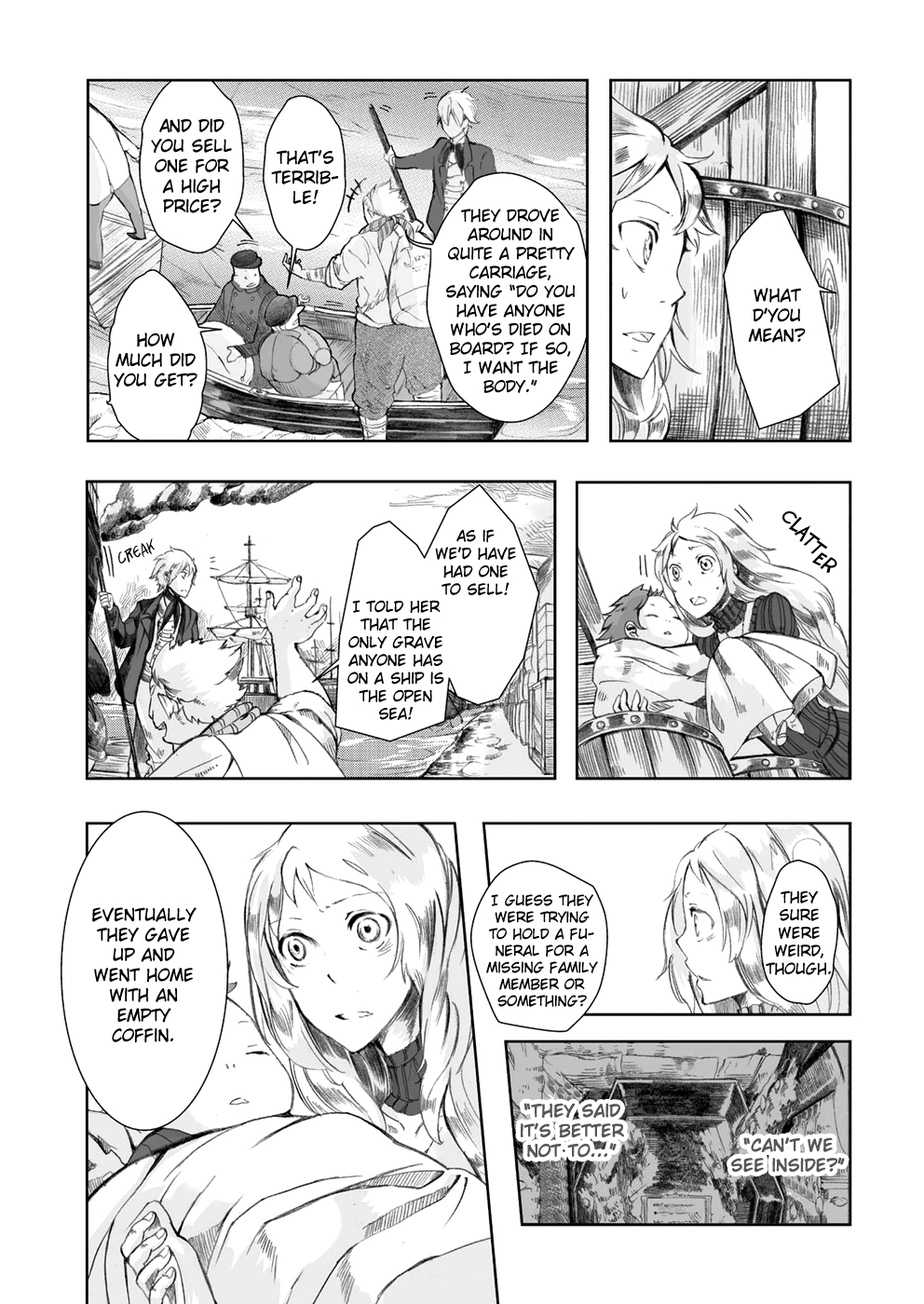bubble: (61, 810, 228, 1132), (406, 172, 588, 423), (312, 521, 450, 742), (722, 209, 840, 429), (424, 484, 540, 705), (471, 860, 607, 1031), (138, 79, 252, 253), (107, 271, 222, 443), (265, 95, 346, 284), (763, 860, 838, 1005)
